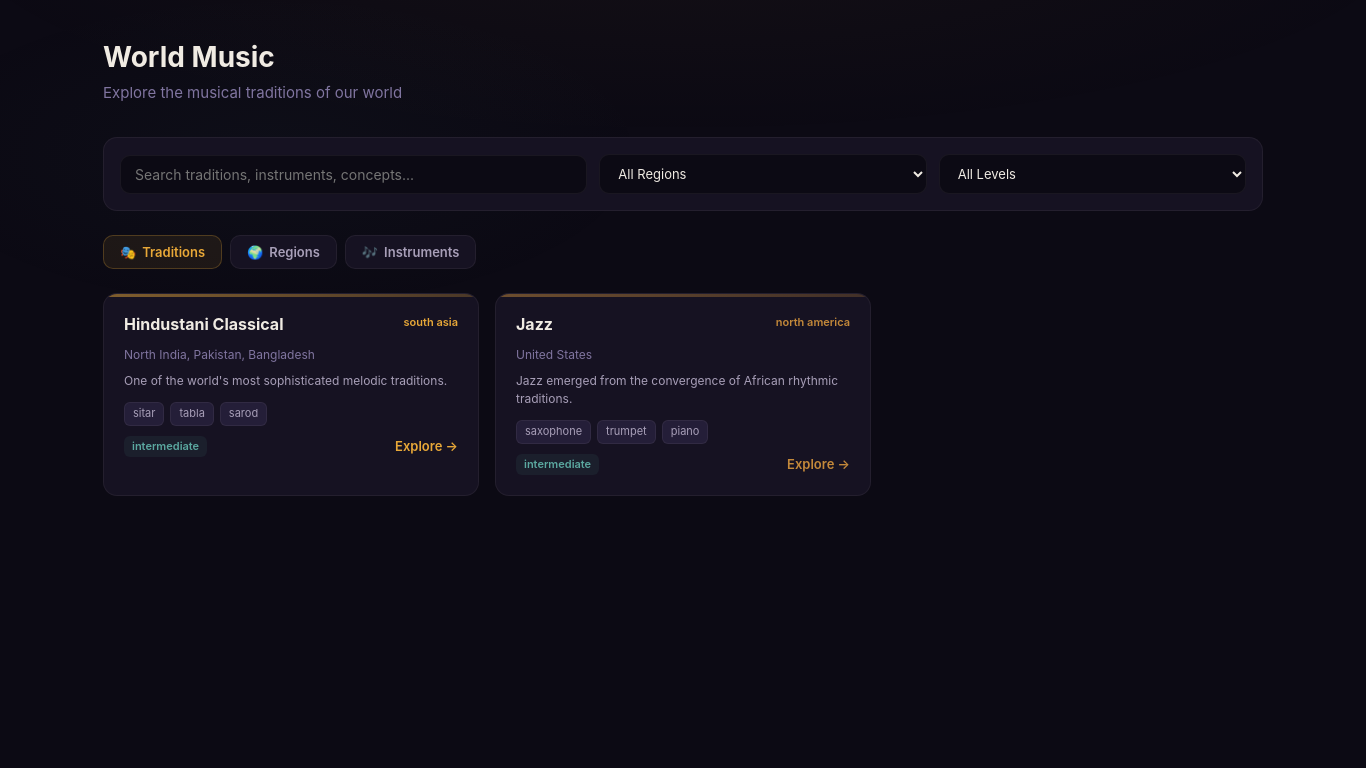
WorldMusic page › filters by region
Expected: the heading "Hindustani Classical" is shown, [124,314,284,335]
Select "South Asia" in the 1st dropdown showing "All Regions": coordinates (763, 174) [599,154,927,194]
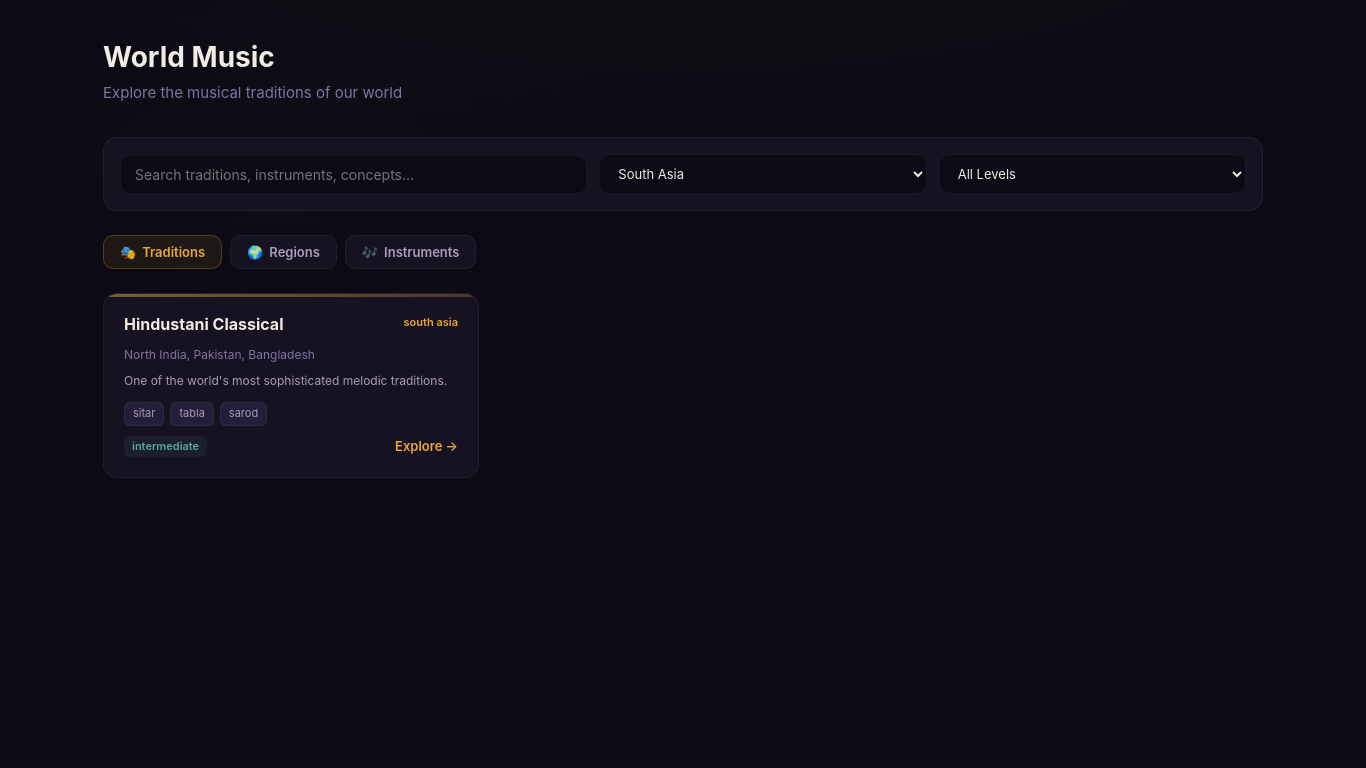
Expected: the heading "Hindustani Classical" is shown, [124,314,284,335]
Now the button "Jazz" is gone
